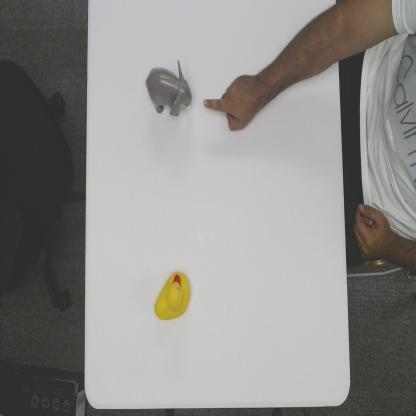Arm: (258, 0, 338, 97)
Duck: (153, 266, 192, 322)
Elephant: (144, 58, 193, 120)
Hand: (202, 73, 266, 136)
